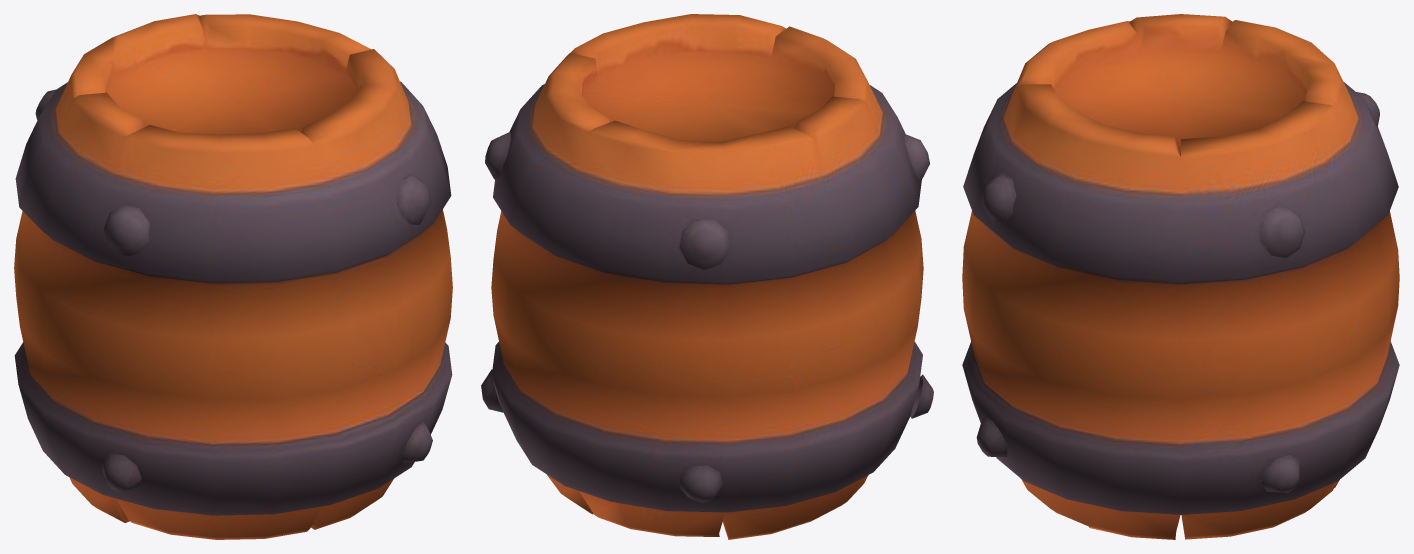
File: barrel.glb
3 renders of one model, left to right at view 1: azimuth 30°, elevation 25°; view 2: azimuth 150°, elevation 25°; view 3: azimuth 270°, elevation 25°, orthographic.
Parts seen in each view (by area): view 1: tripo_node_0974bd7a-846e-4e0b-bf1c-e6b7b9d337b0; view 2: tripo_node_0974bd7a-846e-4e0b-bf1c-e6b7b9d337b0; view 3: tripo_node_0974bd7a-846e-4e0b-bf1c-e6b7b9d337b0.
Boxes of the visible parts, <box> form: tripo_node_0974bd7a-846e-4e0b-bf1c-e6b7b9d337b0: <box>14,14,452,539</box>; tripo_node_0974bd7a-846e-4e0b-bf1c-e6b7b9d337b0: <box>481,14,933,539</box>; tripo_node_0974bd7a-846e-4e0b-bf1c-e6b7b9d337b0: <box>962,14,1399,539</box>.
Size of the model in its own units: 1.05 by 1.05 by 1.04.
Materials: 1 (1 with a texture image).
